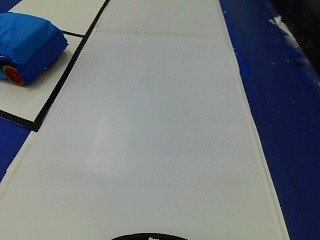car: (0, 8, 67, 87)
